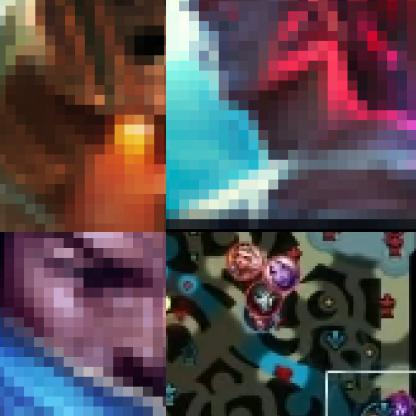Draven: (242, 299, 280, 333)
Jhin: (244, 282, 283, 316)
Malzahar: (381, 390, 415, 415)
Nautilus: (0, 0, 165, 231)
Qiyana: (227, 241, 265, 280)
Renekton: (360, 400, 399, 415)
Soraka: (263, 254, 302, 291)
Yasuo: (0, 232, 165, 415)
Yone: (166, 0, 415, 231)
